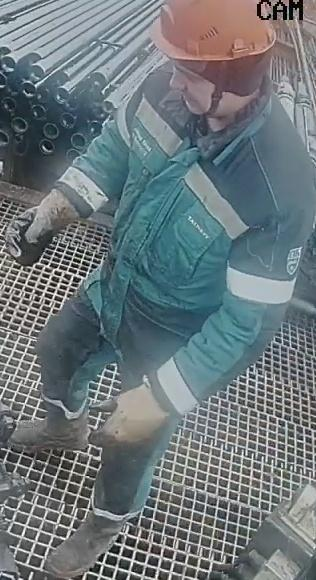gloves: (88, 379, 190, 451), (4, 185, 85, 267)
helmet: (148, 0, 277, 61)
vest: (78, 69, 315, 354)
